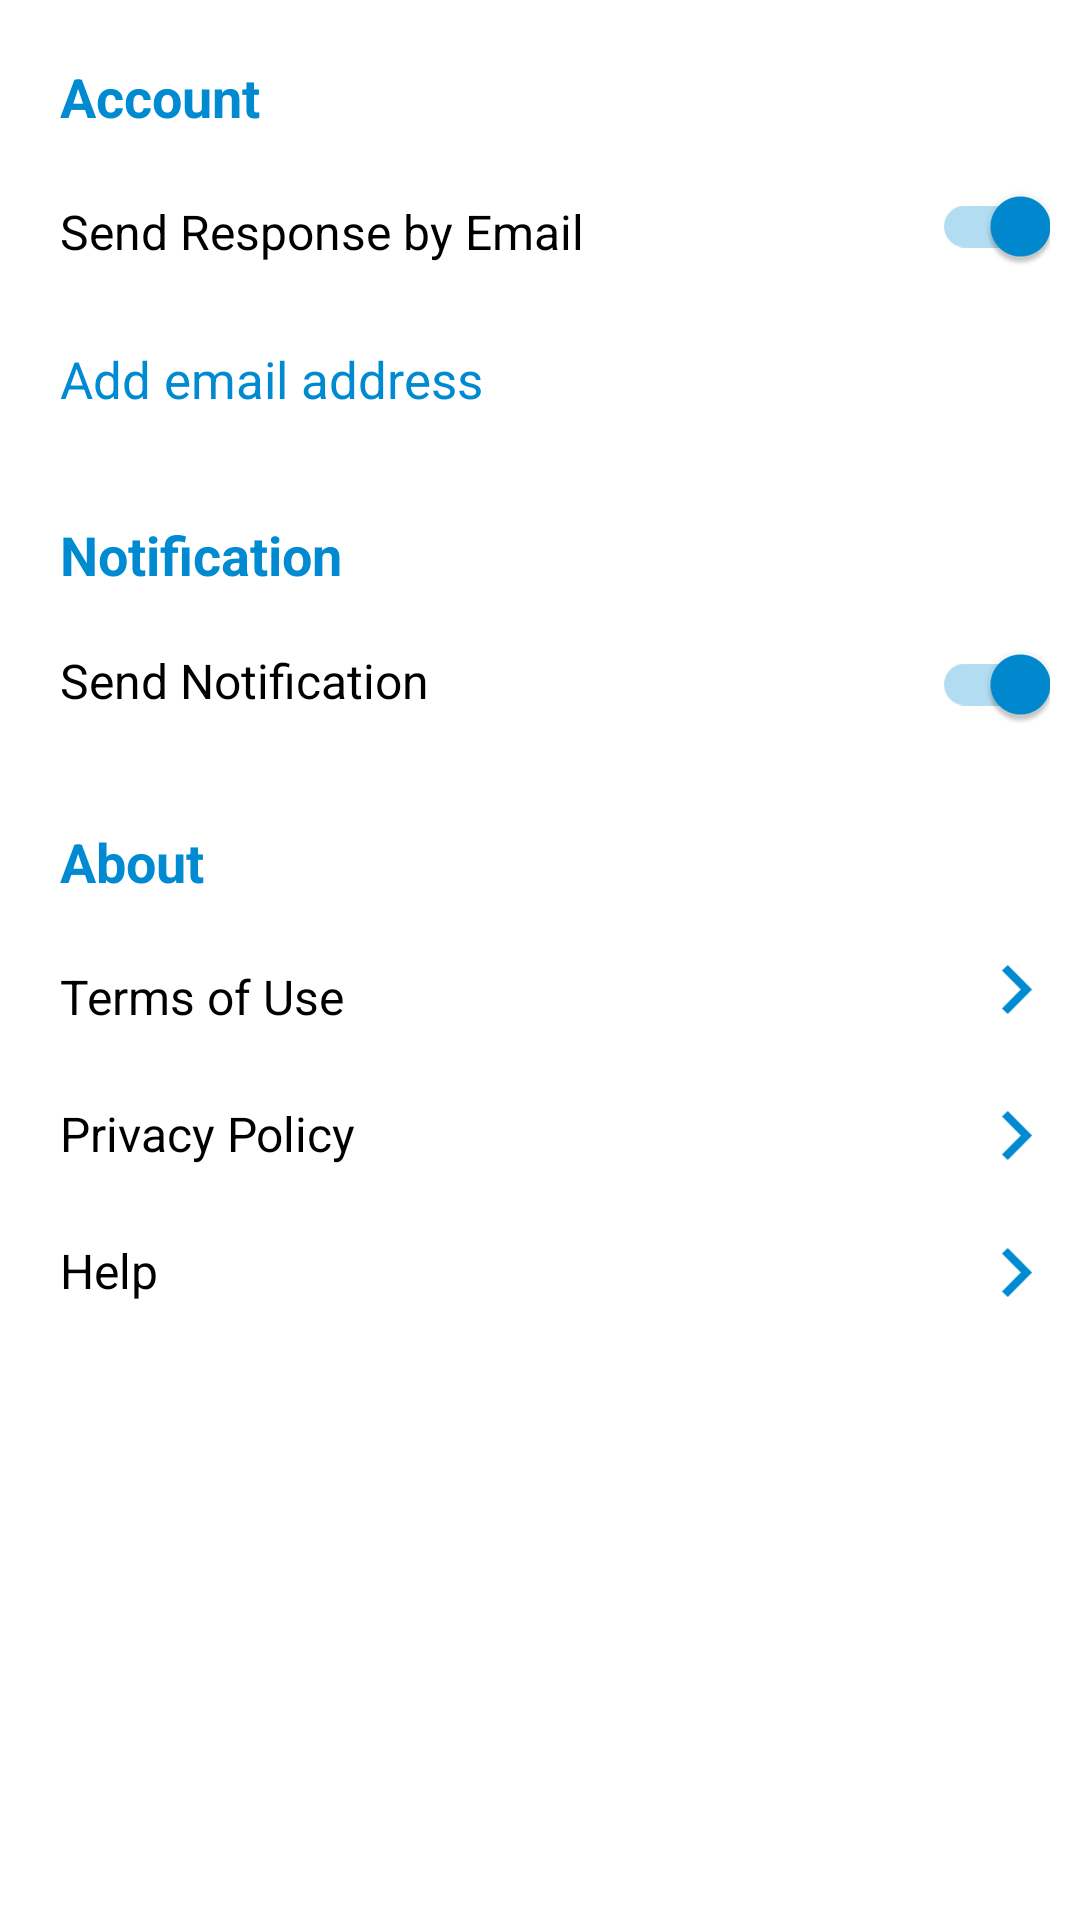

Screen size 1080px x 1920px. Icon name, then its center in pixels as (x,y):
mobileappandroid forward: (1017,989), (1017,1135), (1017,1272)
